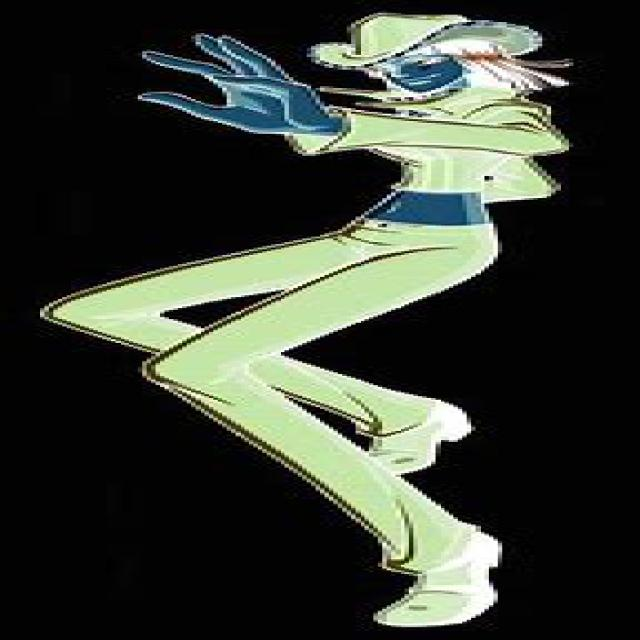Robin: (40, 13, 573, 631)
